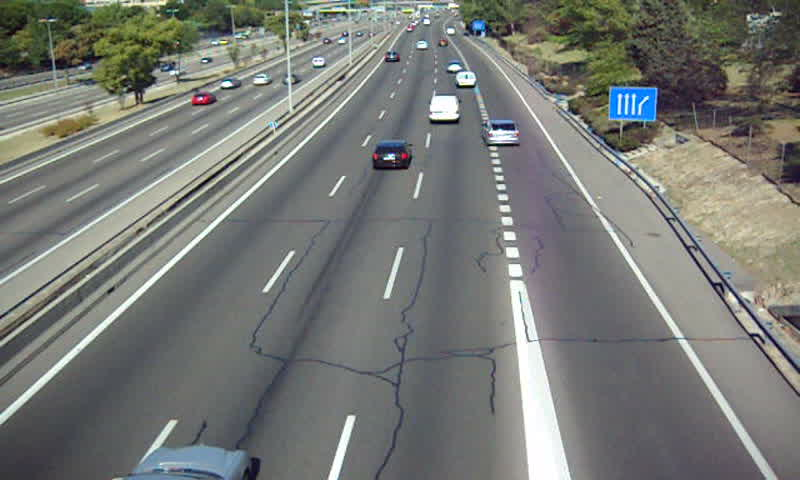car: (371, 139, 412, 171), (483, 119, 522, 148), (446, 61, 463, 73), (385, 50, 400, 63)
van: (429, 95, 460, 123), (456, 71, 477, 88)
